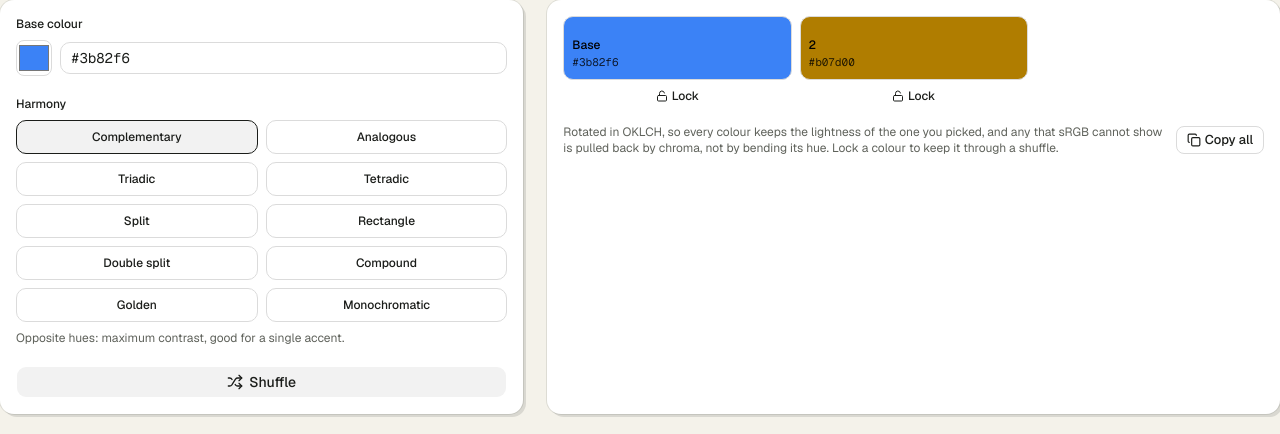
PaletteGeneratorTool › explains what the chosen harmony is for
Check: the text "Opposite hues: maximum contrast, good for a single accent." is shown, box top-left (16, 330), bottom-right (344, 346)
Click the button "Monochromatic" at (387, 305), box top-left (266, 288), bottom-right (507, 322)
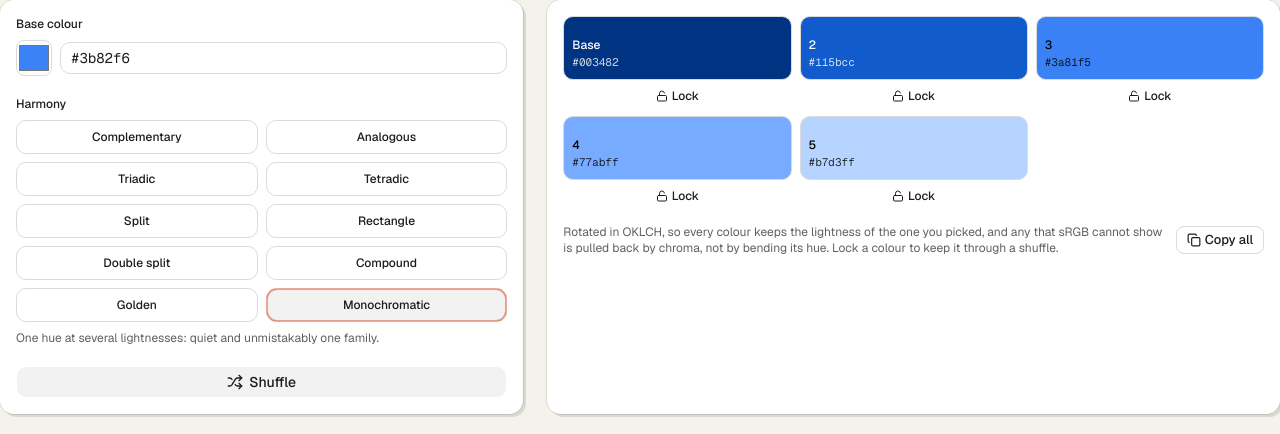
Check: the text "quiet and unmistakably one family" is shown, box top-left (16, 330), bottom-right (379, 346)
